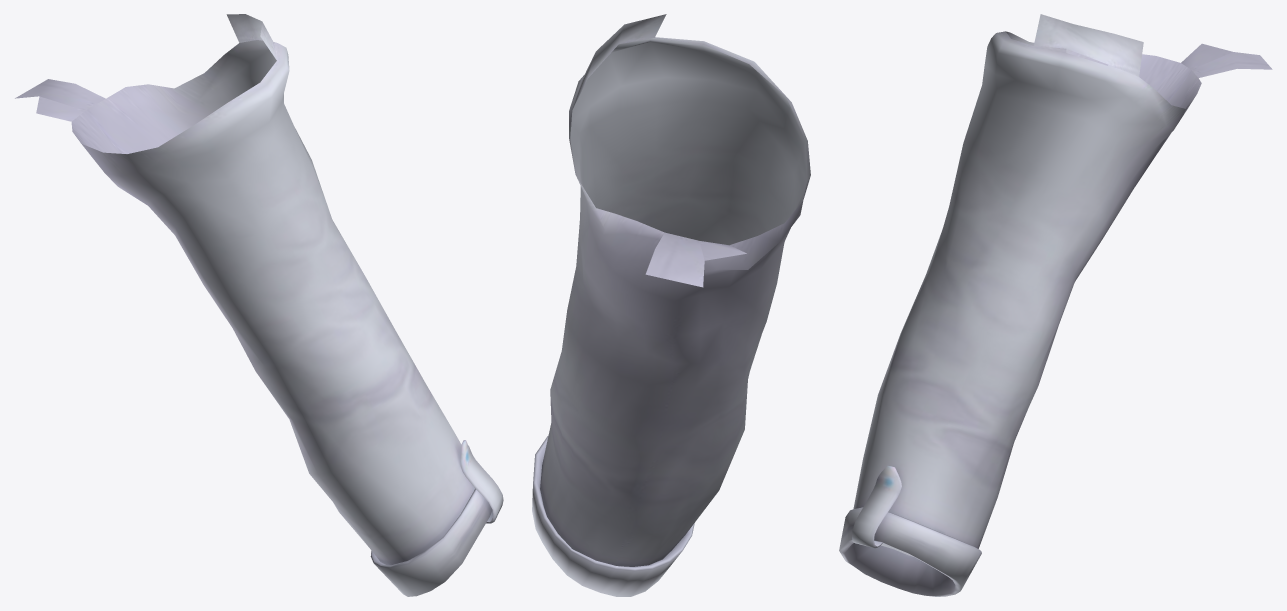
Rendered from HombroDer.obj.
The picture shows the model from 3 angles, left to right: view 1: azimuth 30°, elevation 25°; view 2: azimuth 150°, elevation 25°; view 3: azimuth 270°, elevation 25°; orthographic projection. The views are drawn at different scales.
Parts seen in each view (by area): view 1: HombroDerecho; view 2: HombroDerecho; view 3: HombroDerecho.
Boxes of the visible parts, left/top/right/bottom form: HombroDerecho: left=15, top=14, right=503, bottom=596; HombroDerecho: left=532, top=14, right=810, bottom=596; HombroDerecho: left=839, top=14, right=1272, bottom=596.
Size of the model in its own units: 4.46 by 7.35 by 5.35.
1 material, 1 textured.
